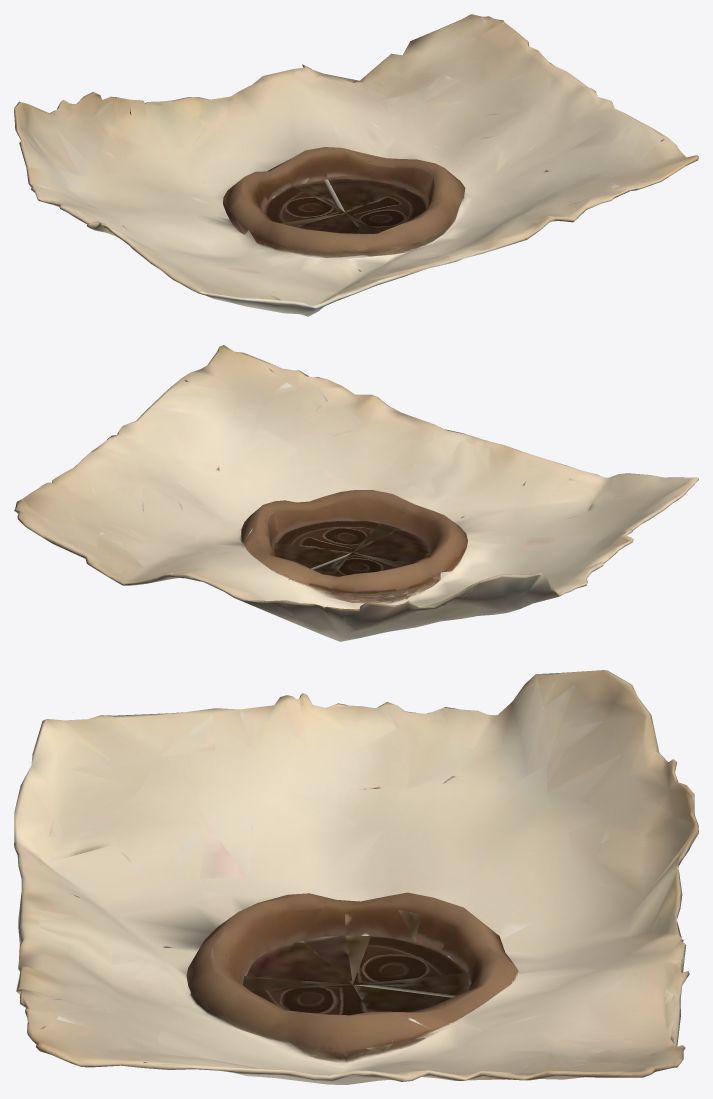
Rendered from Objeto3.fbx.
3 renders of one model, top to bottom at view 1: azimuth 30°, elevation 25°; view 2: azimuth 150°, elevation 25°; view 3: azimuth 270°, elevation 25°, orthographic. The views are drawn at different scales.
Visible parts, largest first — view 1: Mesh_0; view 2: Mesh_0; view 3: Mesh_0.
Boxes of the visible parts, box(x1,y1,x2,y2) form: Mesh_0: box(14, 14, 698, 316); Mesh_0: box(14, 345, 698, 641); Mesh_0: box(14, 670, 698, 1084).
Bounding box in the file's own units: 191 × 48.95 × 148.
1 material, 1 textured.
